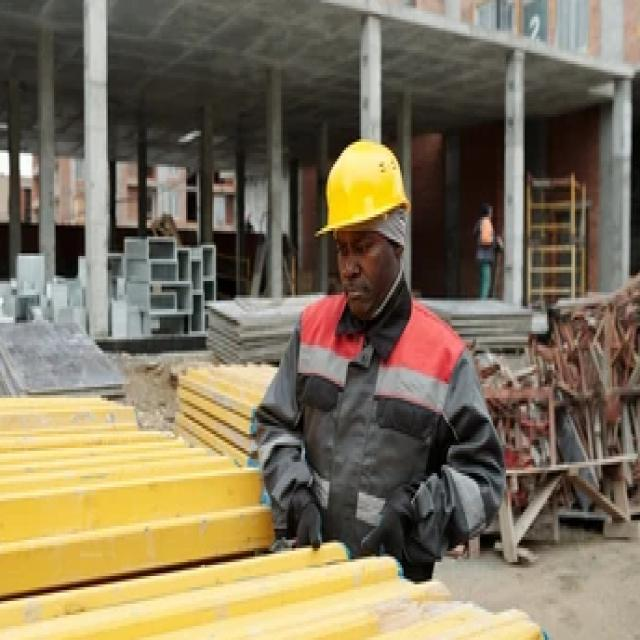hard_hat: (312, 135, 413, 314)
